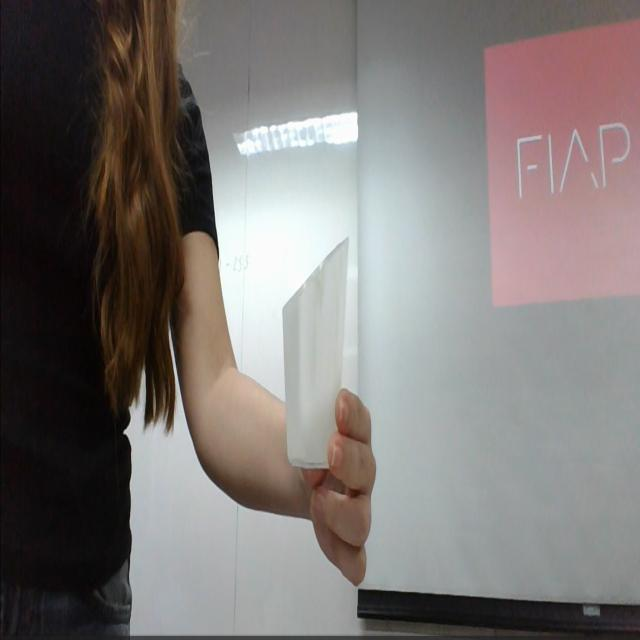erva_daninha: (282, 233, 350, 472)
